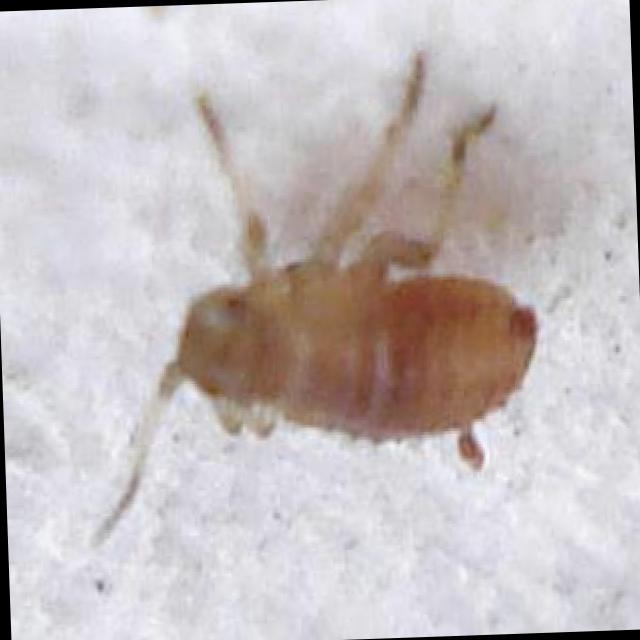Aphids: (52, 23, 563, 562)
